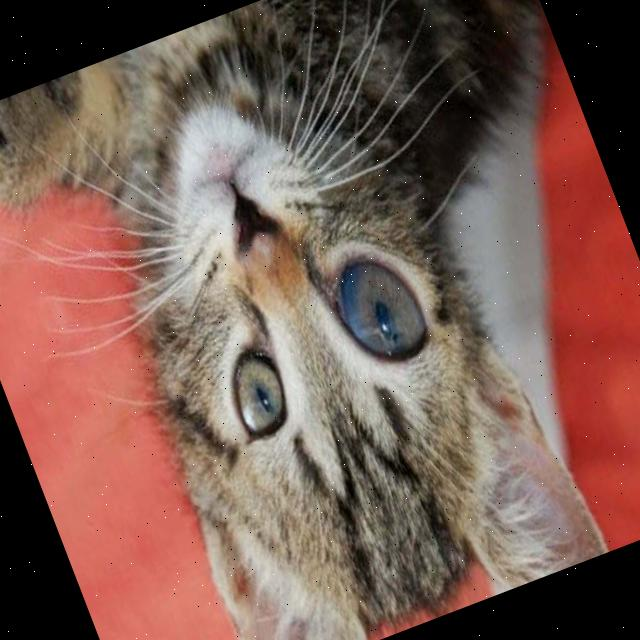cat-eye: (308, 221, 451, 397)
cat-eye-normal: (213, 335, 316, 456)
